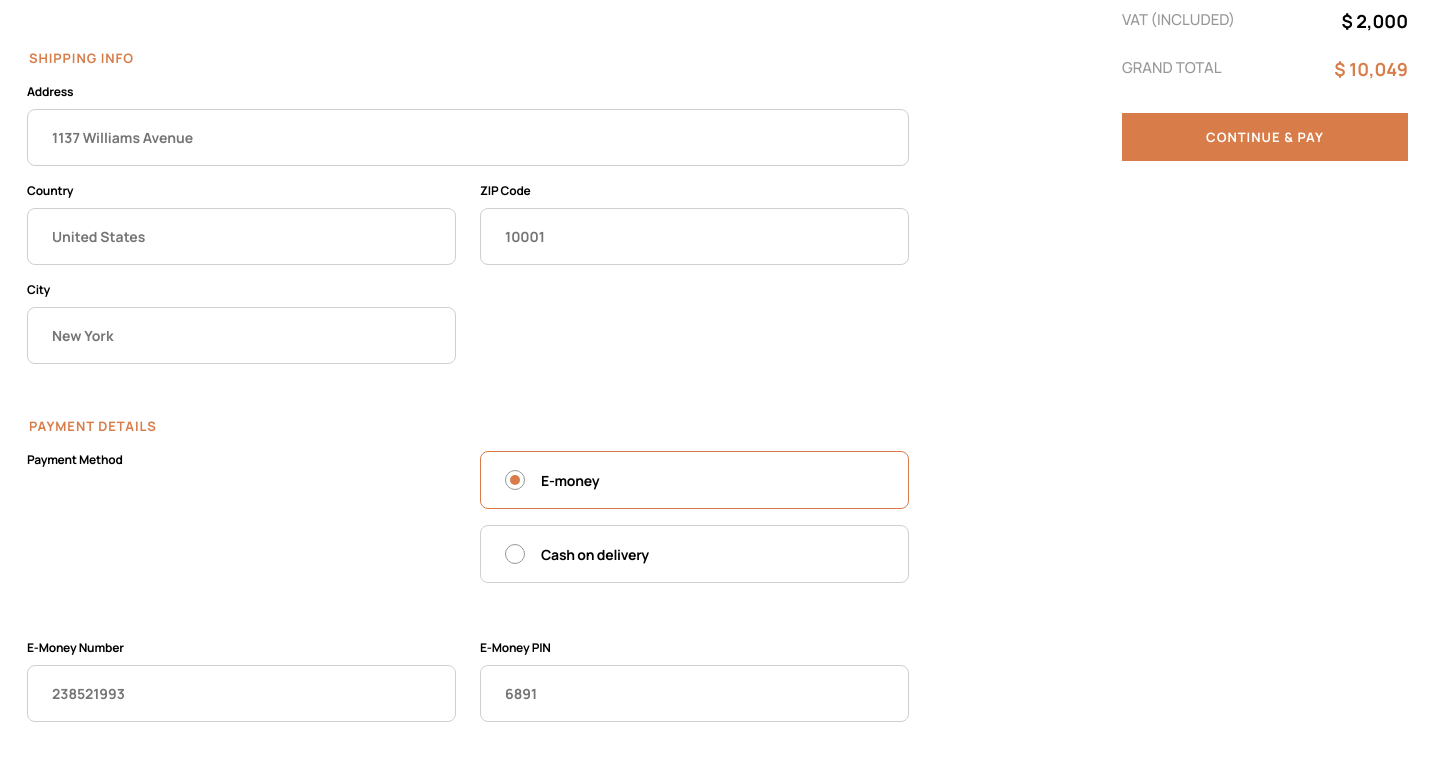
test checkout form › payment method rendering
(page scrolled)
Expected: the text "e-money number" is shown, [27,639,124,656]
Expected: the text "e-money PIN" is shown, [480,639,551,656]
Click the text "Cash on delivery".
click(595, 554)  # box [480,525,909,583]
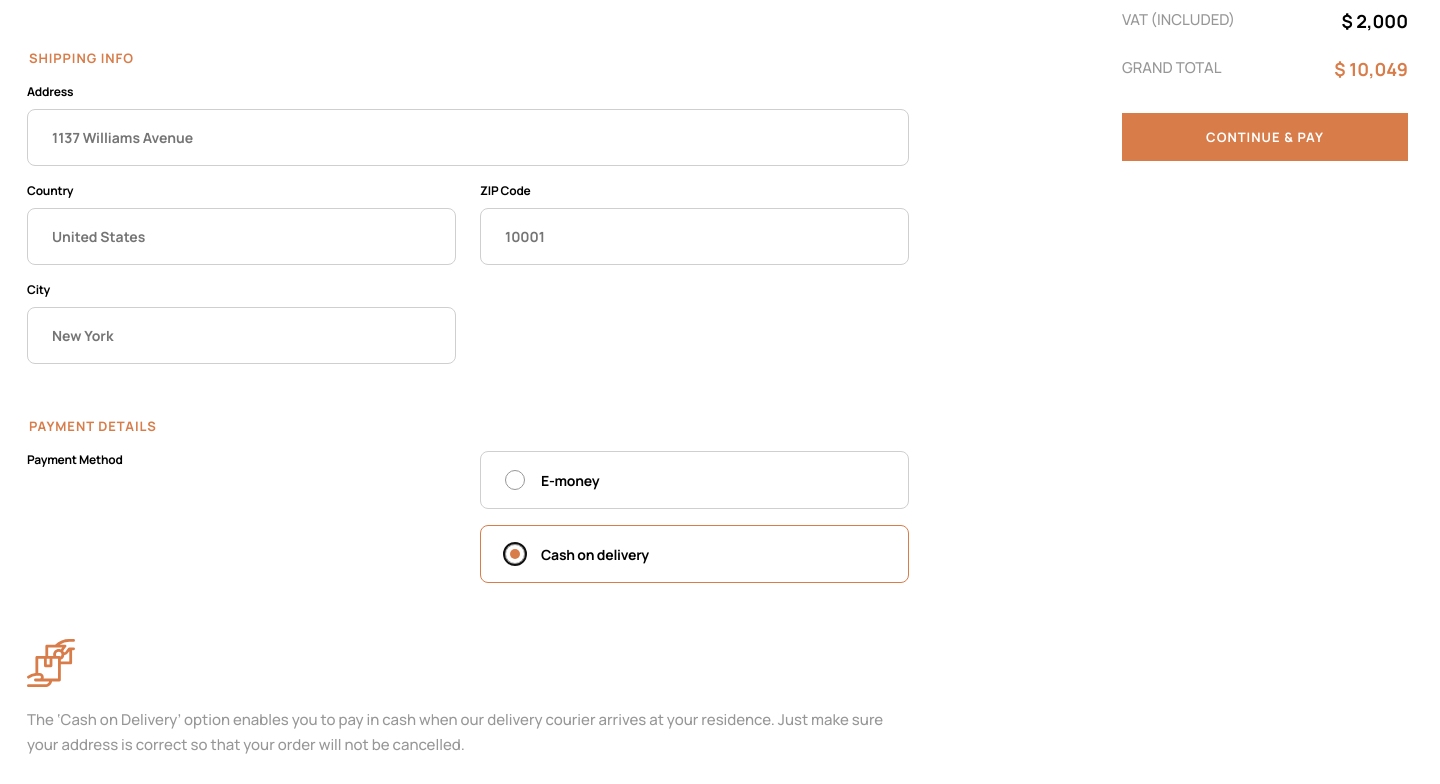
Expected: the text "e-money number" is gone
Expected: the text with test id "cash-option" is shown, [27,707,909,757]
